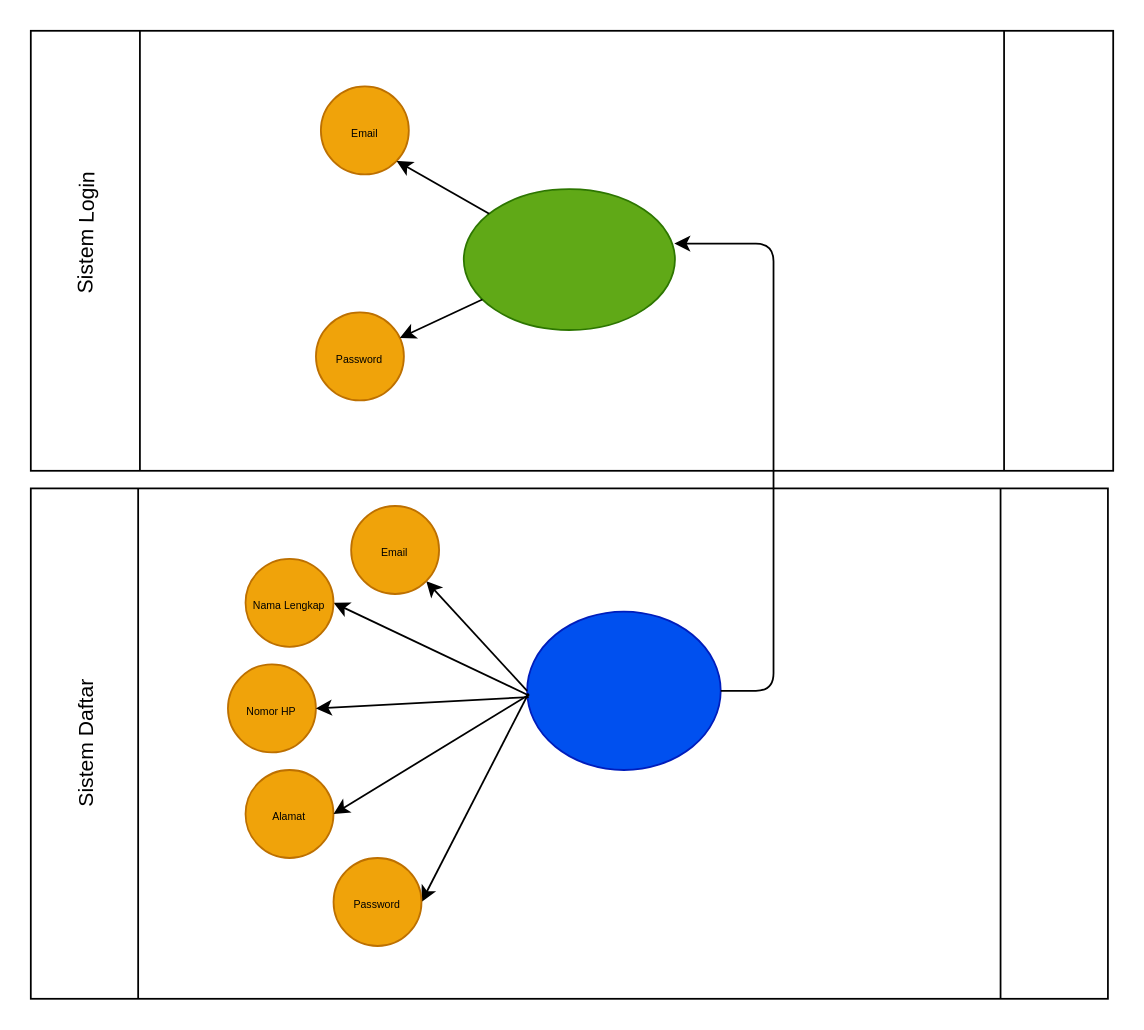
The diagram is 1144 pixels wide and 1030 high, and some of its shapes have lost their labels. Each missing label, with the centre of its shape:
"Data Diri" belongs at (623,690).
"Login" belongs at (568,258).
